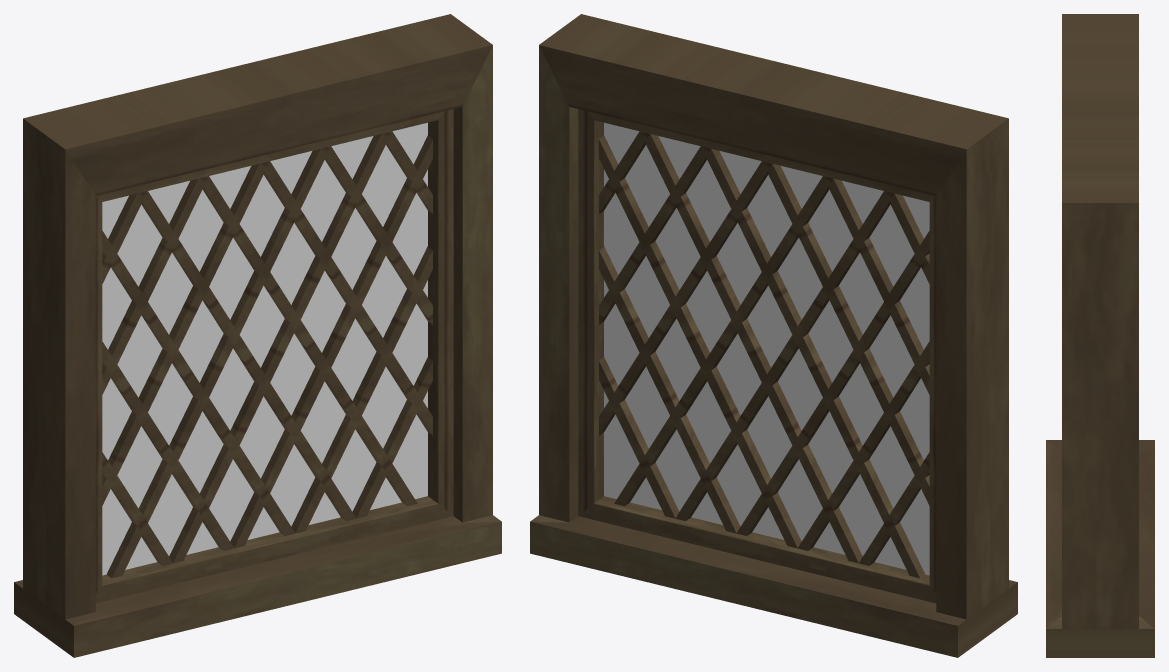
Rendered from window02.glb.
3 views of the same model, side by side, from view 1: azimuth 30°, elevation 25°; view 2: azimuth 150°, elevation 25°; view 3: azimuth 270°, elevation 25° (orthographic). The views are drawn at different scales.
Visible parts, largest first — view 1: window02; view 2: window02; view 3: window02.
Part boxes in pixels (box(x1,y1,x2,y2)): window02: box(14, 14, 501, 657); window02: box(530, 14, 1017, 657); window02: box(1046, 14, 1154, 657).
Bounding box in the file's own units: 1.4 × 1.57 × 0.34.
Materials: 2 (1 with a texture image).
